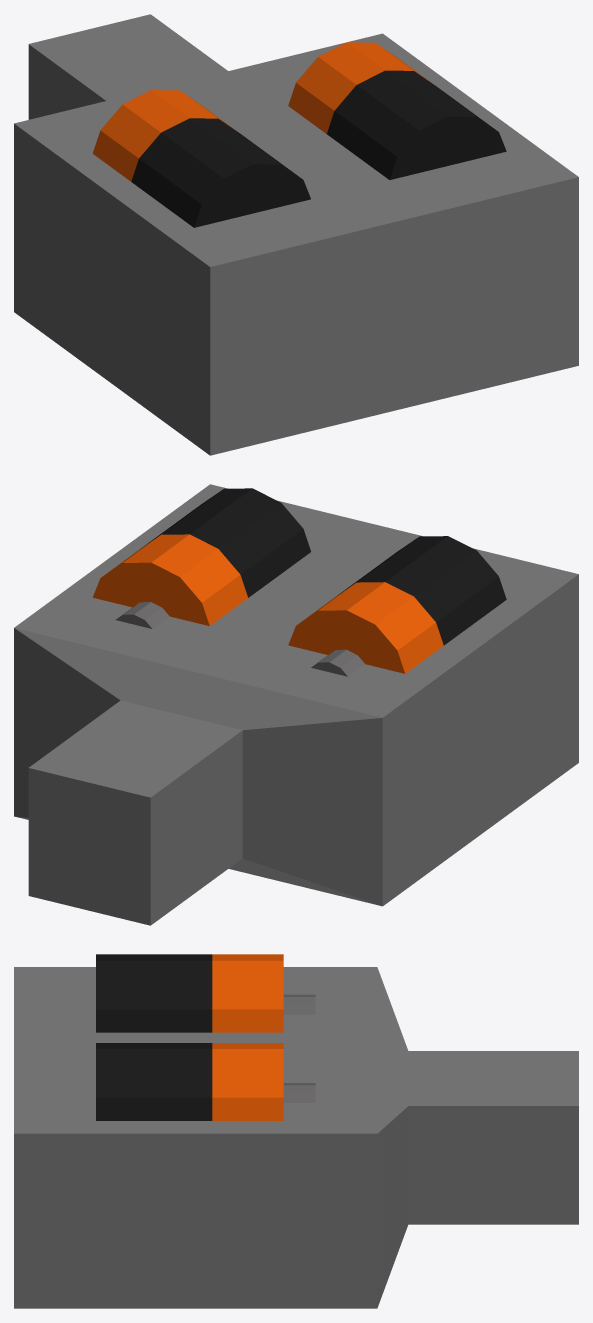
File: BatteryCase1.fbx
3 renders of one model, top to bottom at view 1: azimuth 30°, elevation 25°; view 2: azimuth 150°, elevation 25°; view 3: azimuth 270°, elevation 25°, orthographic. The views are drawn at different scales.
Visible parts, largest first — view 1: Case, Battery.001, Battery; view 2: Case, Battery, Battery.001; view 3: Case, Battery, Battery.001.
Boxes of the visible parts, x1,y1,x2,y2 form: Case: [14, 14, 578, 455]; Battery.001: [288, 42, 506, 179]; Battery: [92, 90, 310, 227]; Case: [14, 484, 578, 925]; Battery: [288, 536, 506, 676]; Battery.001: [93, 488, 310, 628]; Case: [14, 967, 578, 1308]; Battery: [96, 954, 315, 1032]; Battery.001: [96, 1043, 315, 1120].
Size of the model in its own units: 77.65 by 47.88 by 111.
